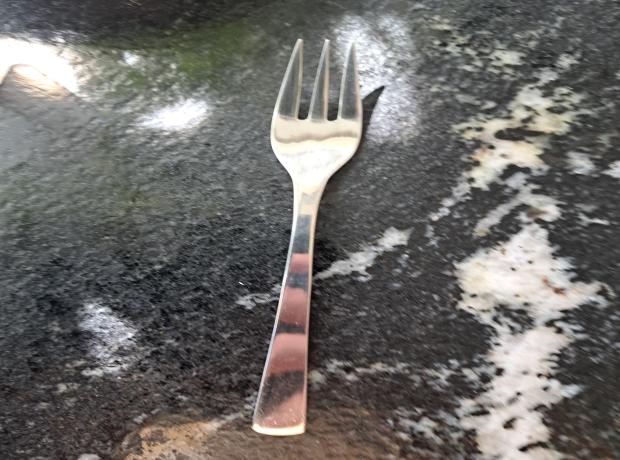metal: (244, 36, 366, 437)
